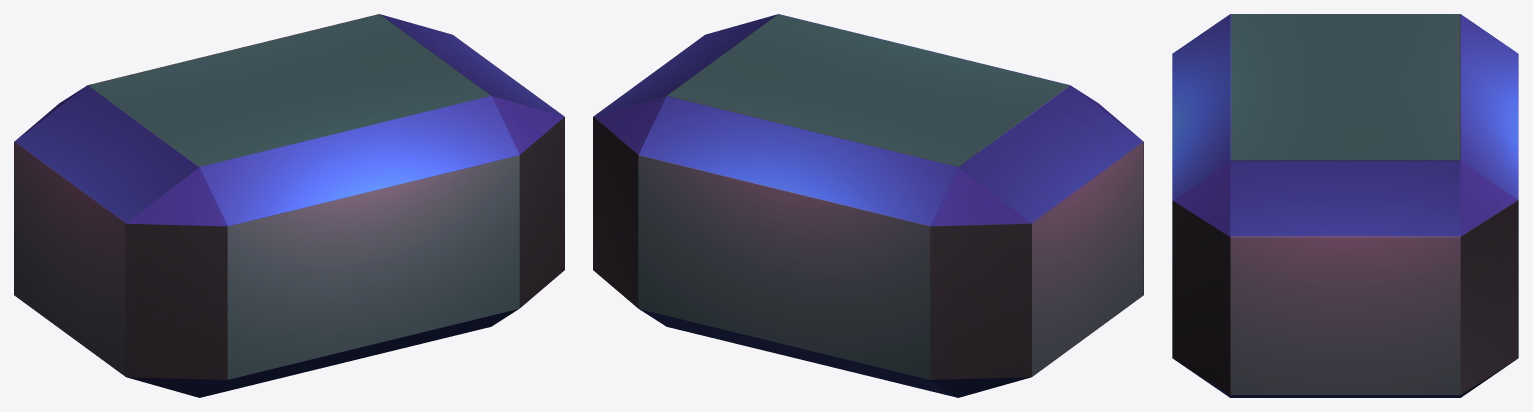
Rendered from reloadpowerup3.dae.
The picture shows the model from 3 angles, left to right: view 1: azimuth 30°, elevation 25°; view 2: azimuth 150°, elevation 25°; view 3: azimuth 270°, elevation 25°; orthographic projection. The views are drawn at different scales.
Visible parts, largest first — view 1: powerpack; view 2: powerpack; view 3: powerpack.
Boxes of the visible parts, x1,y1,x2,y2 form: powerpack: [14, 14, 564, 397]; powerpack: [593, 14, 1143, 397]; powerpack: [1172, 14, 1518, 397].
Bounding box in the file's own units: 2 × 1.33 × 1.
1 material, 1 textured.
